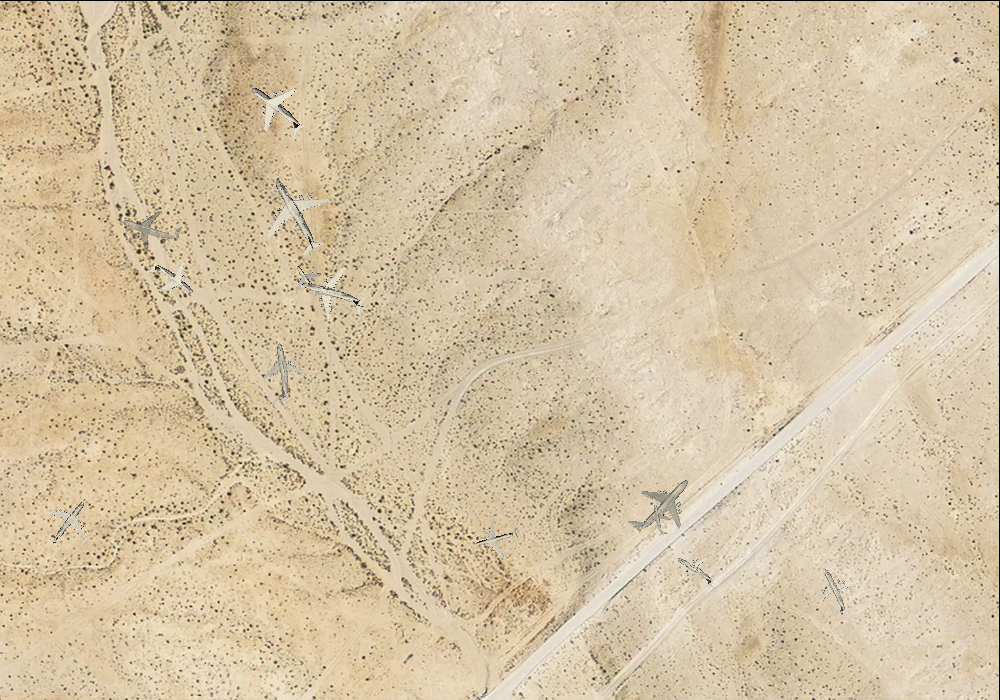plane: (243, 162, 348, 269), (612, 456, 708, 553), (231, 66, 321, 154), (293, 256, 373, 334), (31, 487, 103, 560), (114, 193, 188, 263), (137, 245, 205, 312), (802, 560, 866, 625), (250, 339, 310, 406), (666, 544, 724, 600), (469, 513, 523, 564), (283, 256, 331, 304), (641, 501, 676, 538)
